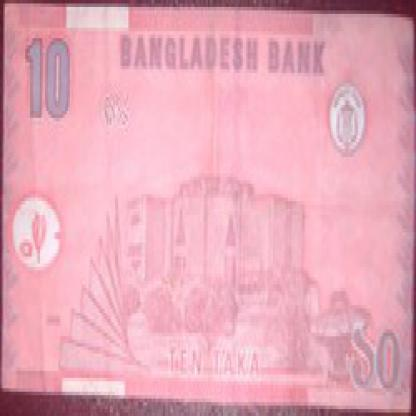Ten Taka: (18, 31, 80, 135), (354, 319, 408, 402)
